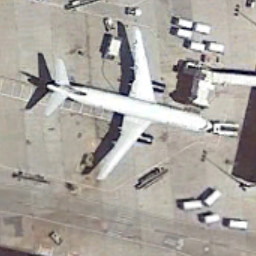Airplane: (17, 20, 218, 195)
